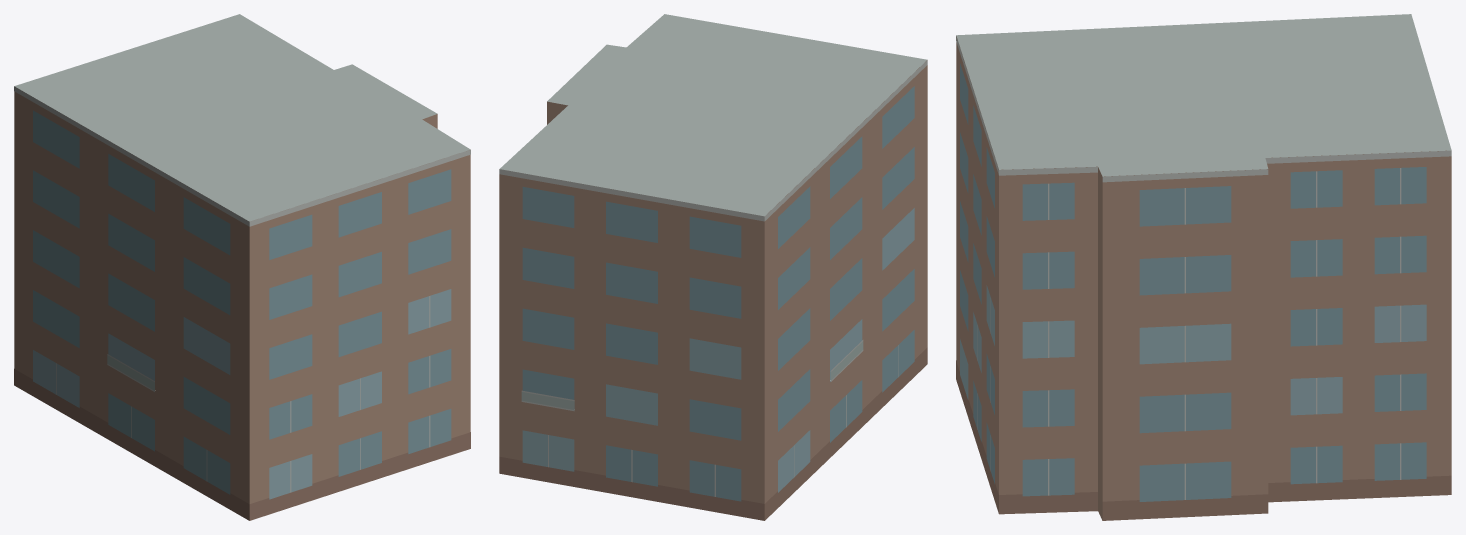
The model's file is survey-upis-32698148.glb.
3 renders of one model, left to right at view 1: azimuth 30°, elevation 25°; view 2: azimuth 150°, elevation 25°; view 3: azimuth 270°, elevation 25°, orthographic. The views are drawn at different scales.
Parts seen in each view (by area): view 1: survey-upis-32698148.tmp; view 2: survey-upis-32698148.tmp; view 3: survey-upis-32698148.tmp.
Part boxes in pixels (box(x1,y1,x2,y2)): survey-upis-32698148.tmp: box(14, 14, 470, 520); survey-upis-32698148.tmp: box(499, 14, 927, 520); survey-upis-32698148.tmp: box(956, 14, 1451, 520).
Bounding box in the file's own units: 14.58 × 14.4 × 18.79.
